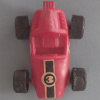carro: (14, 2, 87, 98)
